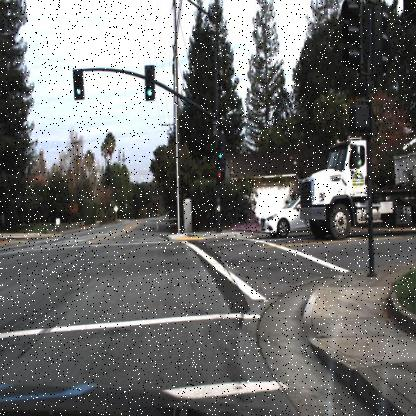car: (259, 190, 312, 238), (264, 197, 306, 234)
trafficLight-Green: (144, 65, 156, 104), (72, 69, 84, 102), (74, 68, 84, 104), (216, 133, 225, 163)
truck: (300, 133, 415, 243)
